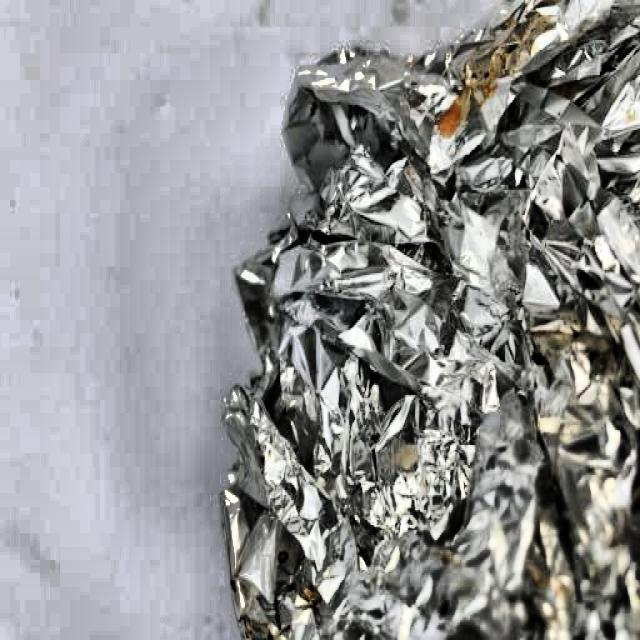metal: (216, 1, 640, 640)
